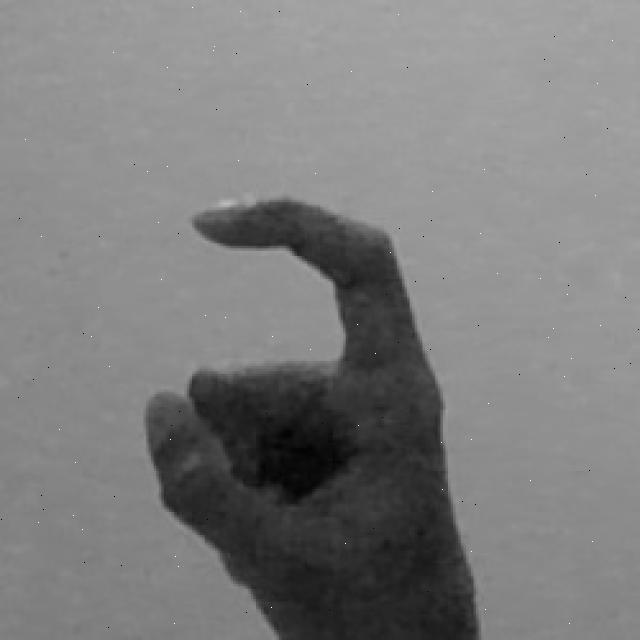X: (135, 188, 479, 640)
